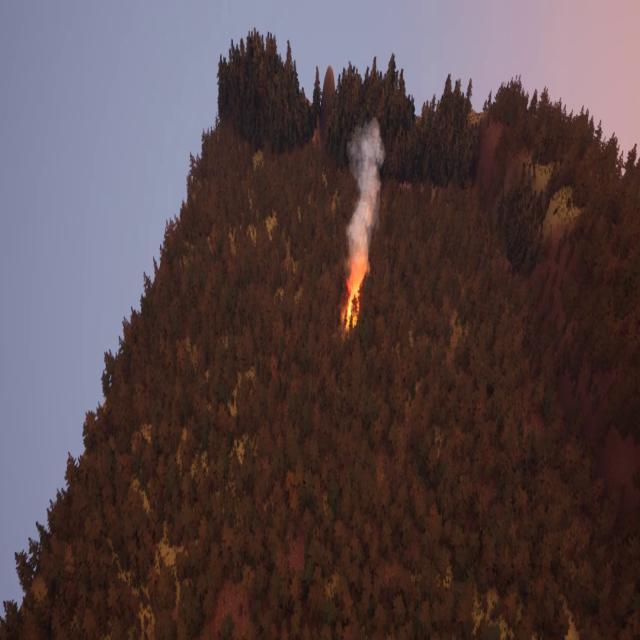fire: (343, 258, 367, 328)
smoke: (341, 119, 387, 265)
